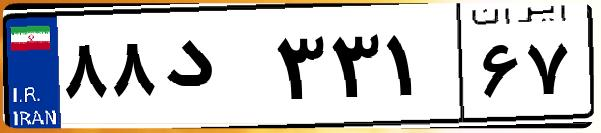1: (385, 28, 445, 110)
3: (270, 28, 330, 110), (330, 28, 385, 110)
6: (475, 38, 525, 113)
7: (525, 38, 570, 115)
8: (57, 26, 110, 100), (110, 28, 158, 98)
د: (158, 20, 270, 120)
